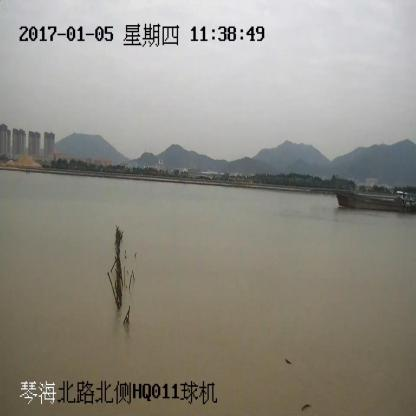Bulk Carrier: (324, 187, 416, 212)
